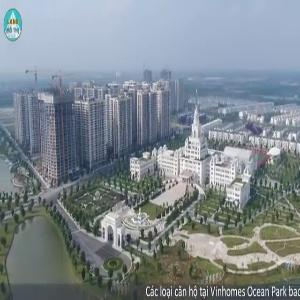drone: (231, 98, 286, 153)
